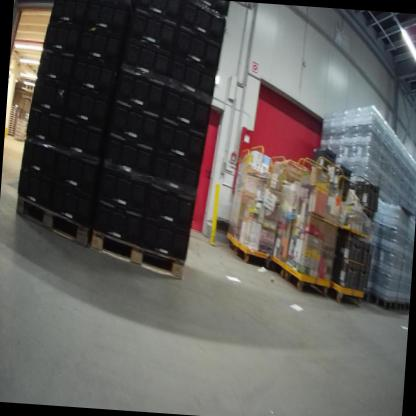pallet: (82, 227, 190, 281), (14, 194, 96, 244)
